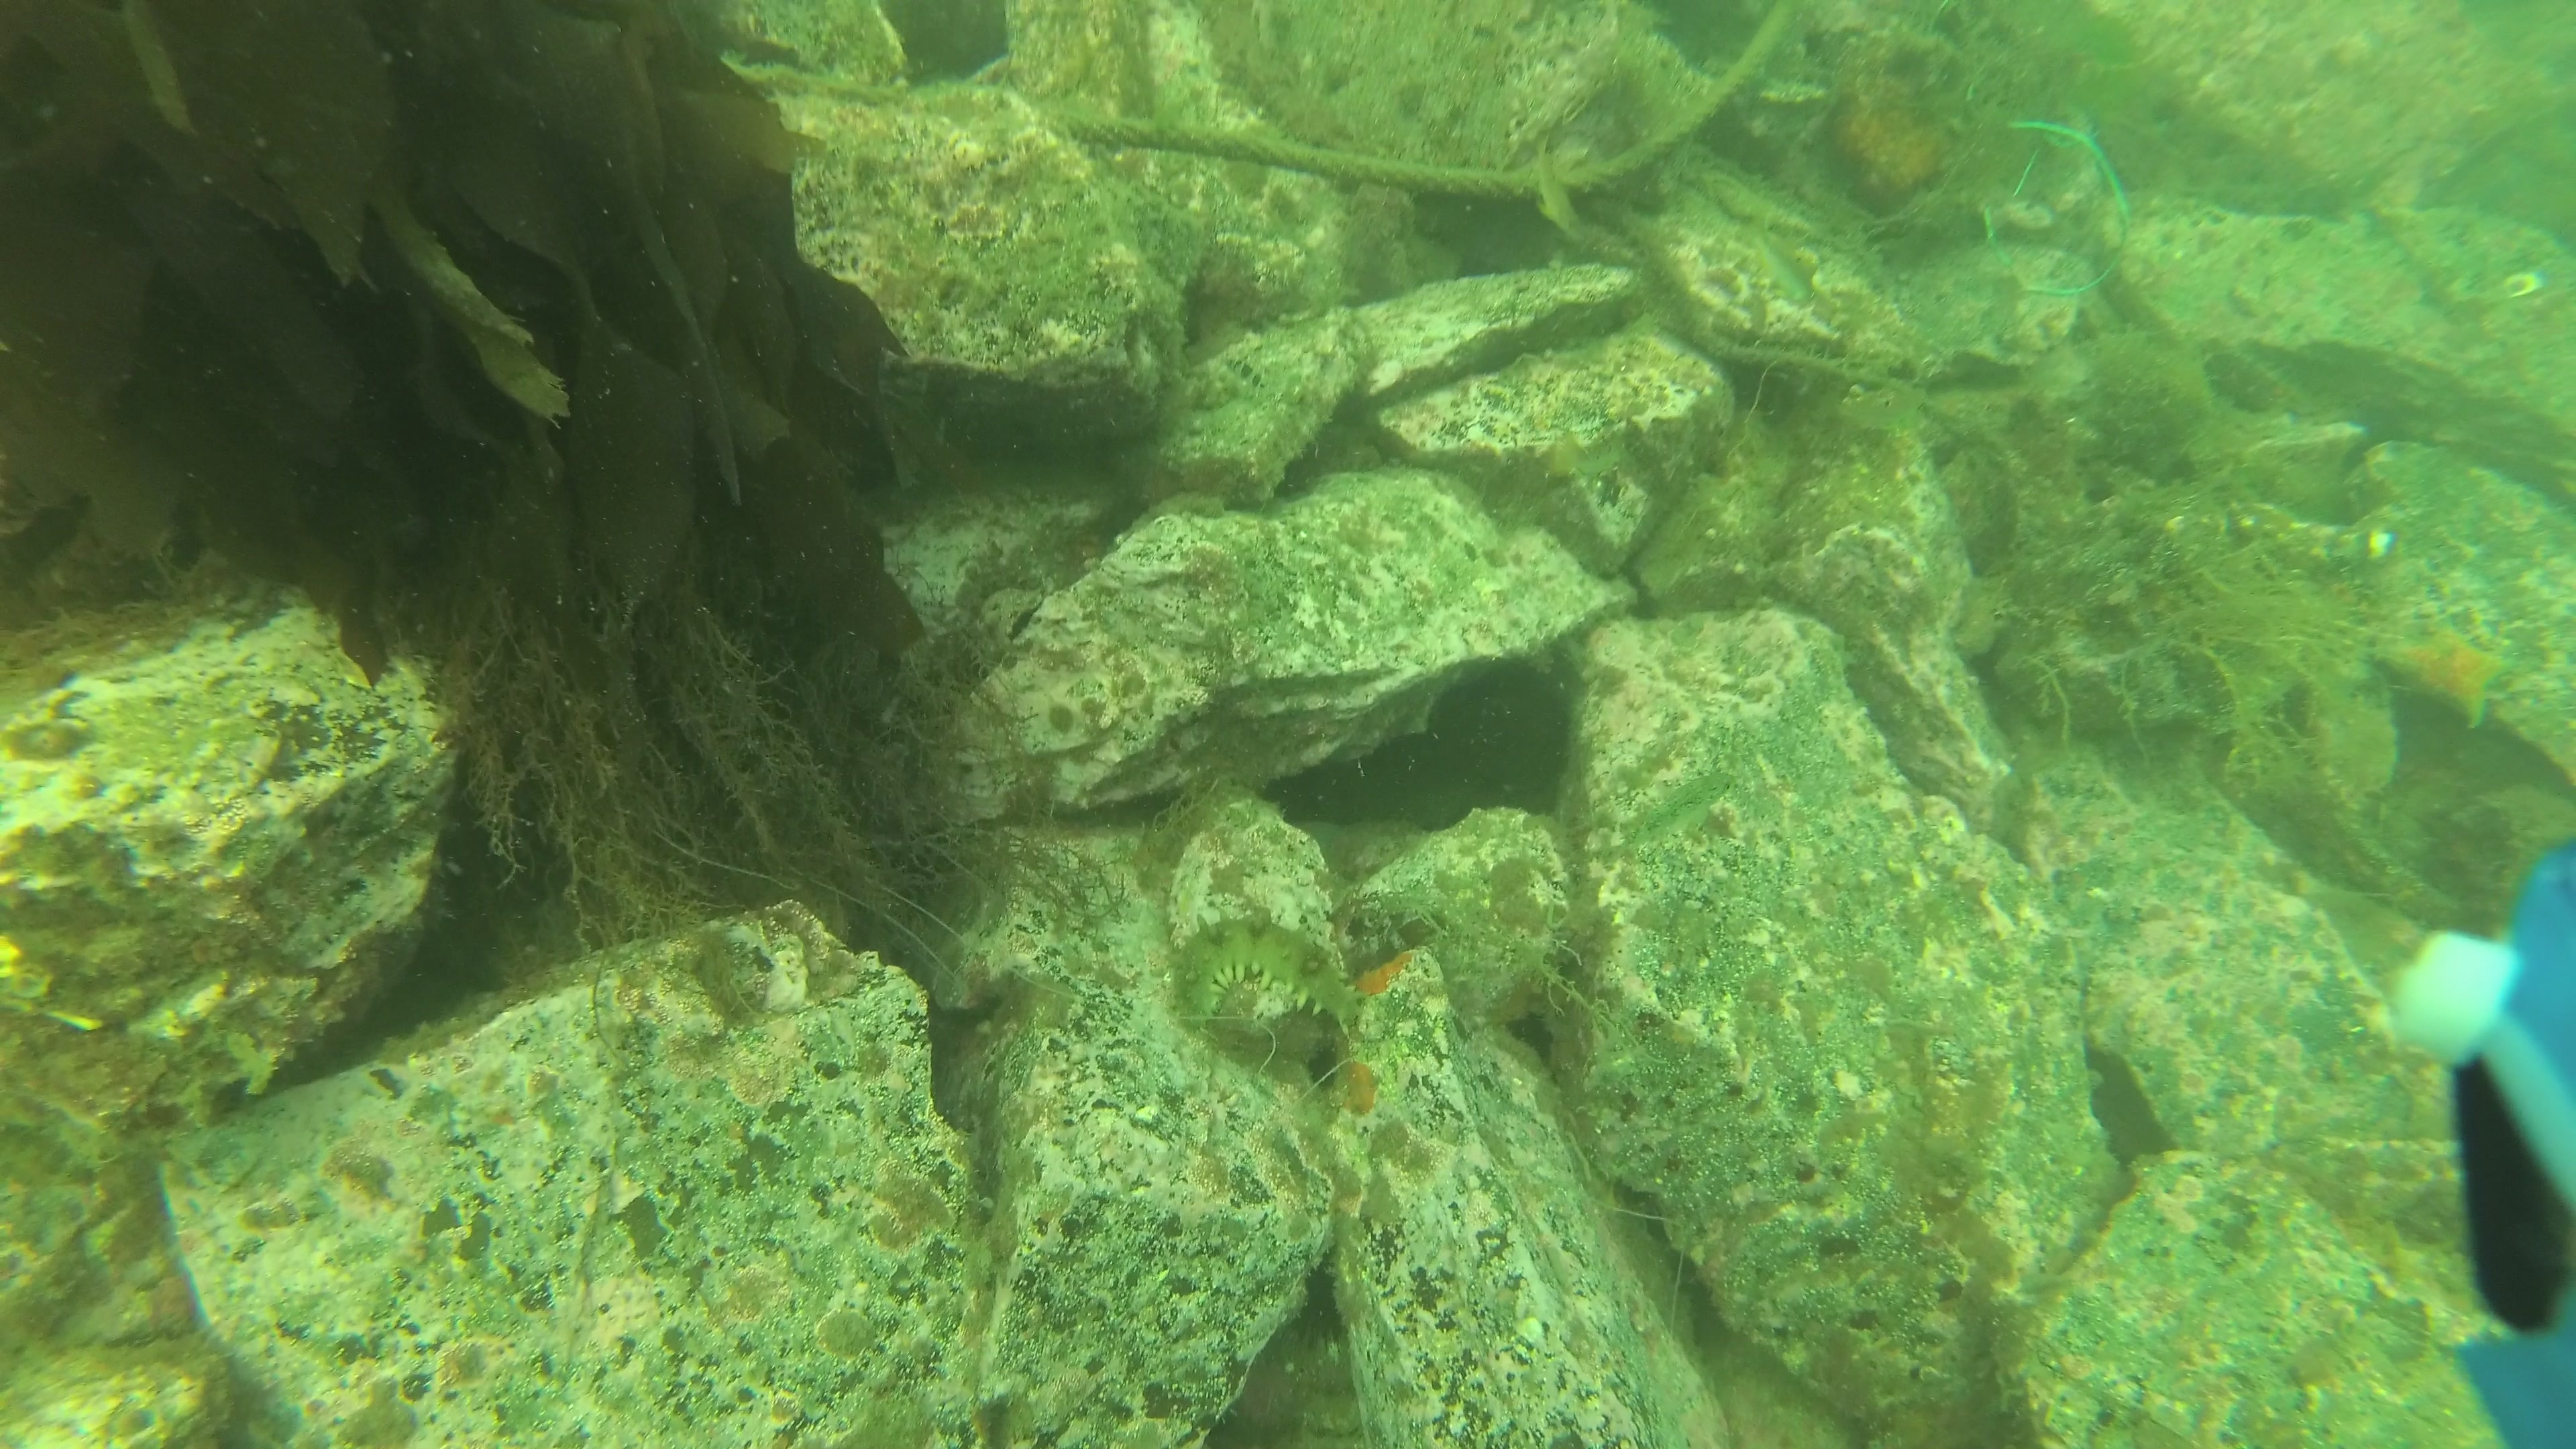holothurian: (1155, 909, 1362, 1046)
starfish: (2383, 607, 2525, 741)
